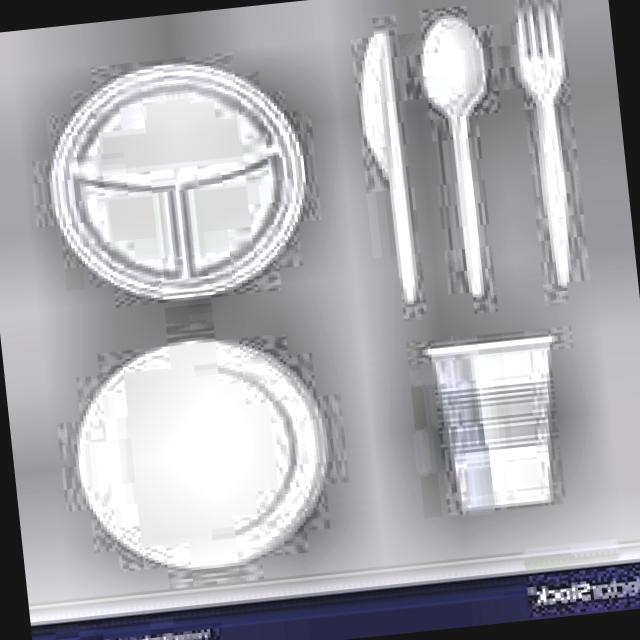plastic utensil: (420, 16, 486, 297), (516, 4, 570, 285), (362, 31, 416, 303)
